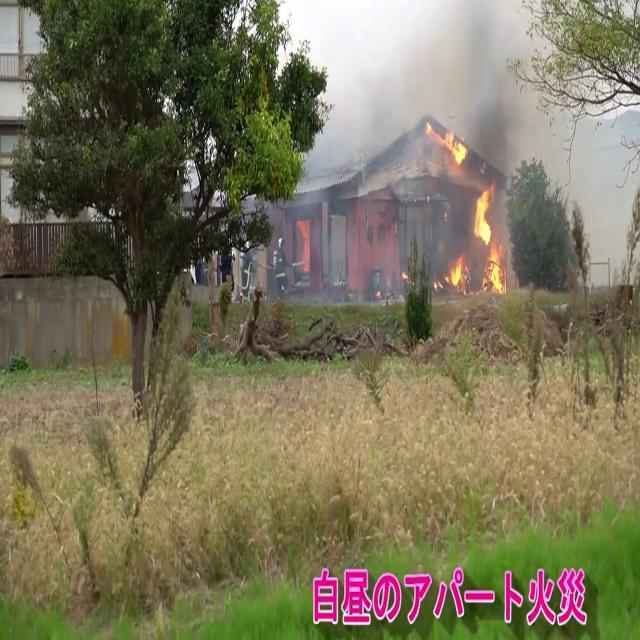Fire: (433, 120, 508, 295)
Smoke: (329, 0, 574, 229)
